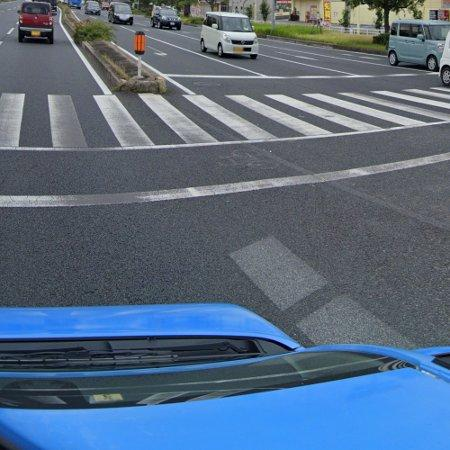crosswalks: (0, 86, 450, 152)
